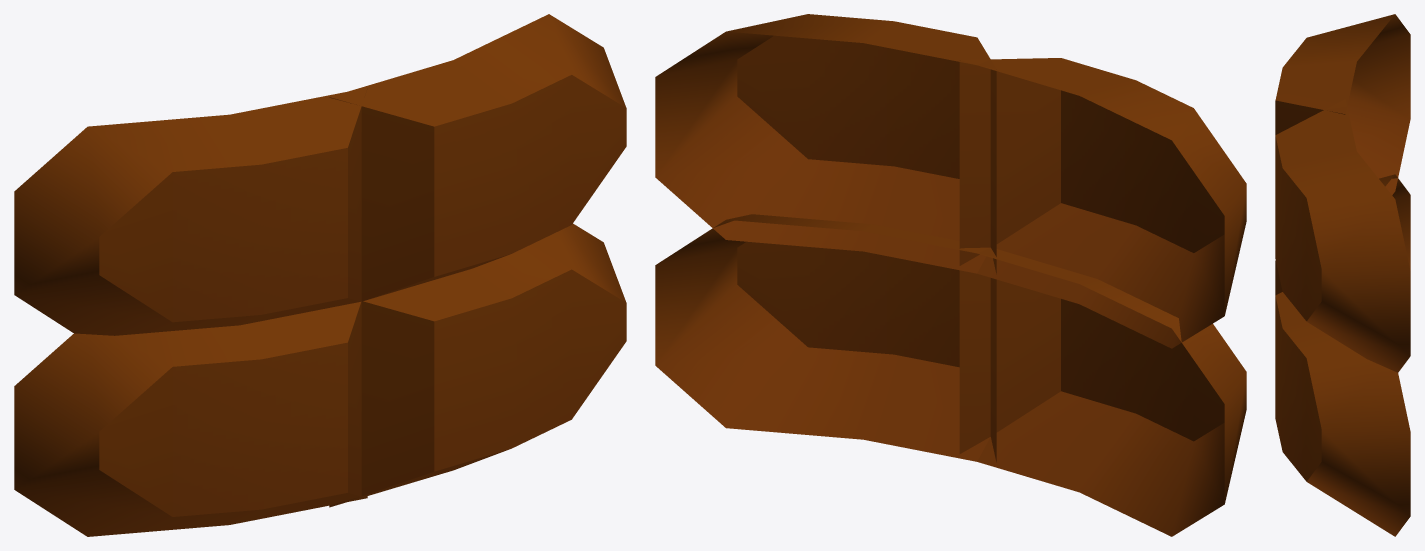
Rendered from Body_Prop_Abs_Black.fbx.
3 renders of one model, left to right at view 1: azimuth 30°, elevation 25°; view 2: azimuth 150°, elevation 25°; view 3: azimuth 270°, elevation 25°, orthographic. The views are drawn at different scales.
Visible parts, largest first — view 1: Body_Prop_Abs_Black; view 2: Body_Prop_Abs_Black; view 3: Body_Prop_Abs_Black.
Part boxes in pixels (bbox=[...]): Body_Prop_Abs_Black: bbox=[14, 14, 626, 536]; Body_Prop_Abs_Black: bbox=[655, 14, 1246, 536]; Body_Prop_Abs_Black: bbox=[1275, 14, 1410, 536].
Size of the model in its own units: 39.29 by 26.14 by 9.47.
